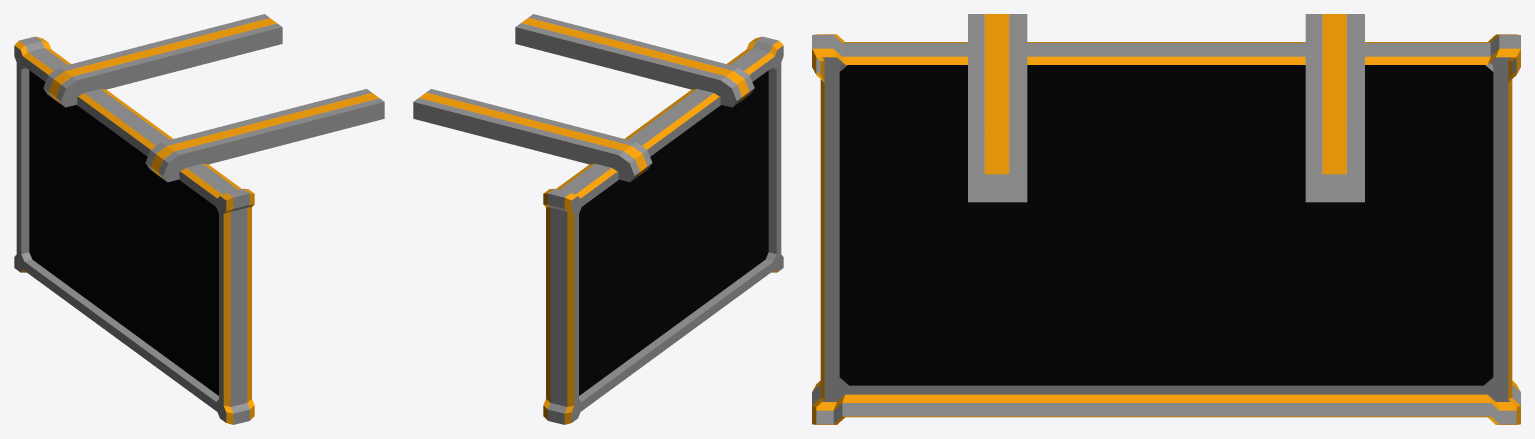
Rendered from Jumbotron.fbx.
The picture shows the model from 3 angles, left to right: view 1: azimuth 30°, elevation 25°; view 2: azimuth 150°, elevation 25°; view 3: azimuth 270°, elevation 25°; orthographic projection. The views are drawn at different scales.
Visible parts, largest first — view 1: Jumbotron; view 2: Jumbotron; view 3: Jumbotron.
Part boxes in pixels (box(x1,y1,x2,y2)): Jumbotron: box(14, 14, 384, 424); Jumbotron: box(413, 14, 783, 424); Jumbotron: box(812, 14, 1520, 424).
Bounding box in the file's own units: 1534 × 1589 × 2574.
Materials: 1 (1 with a texture image).
